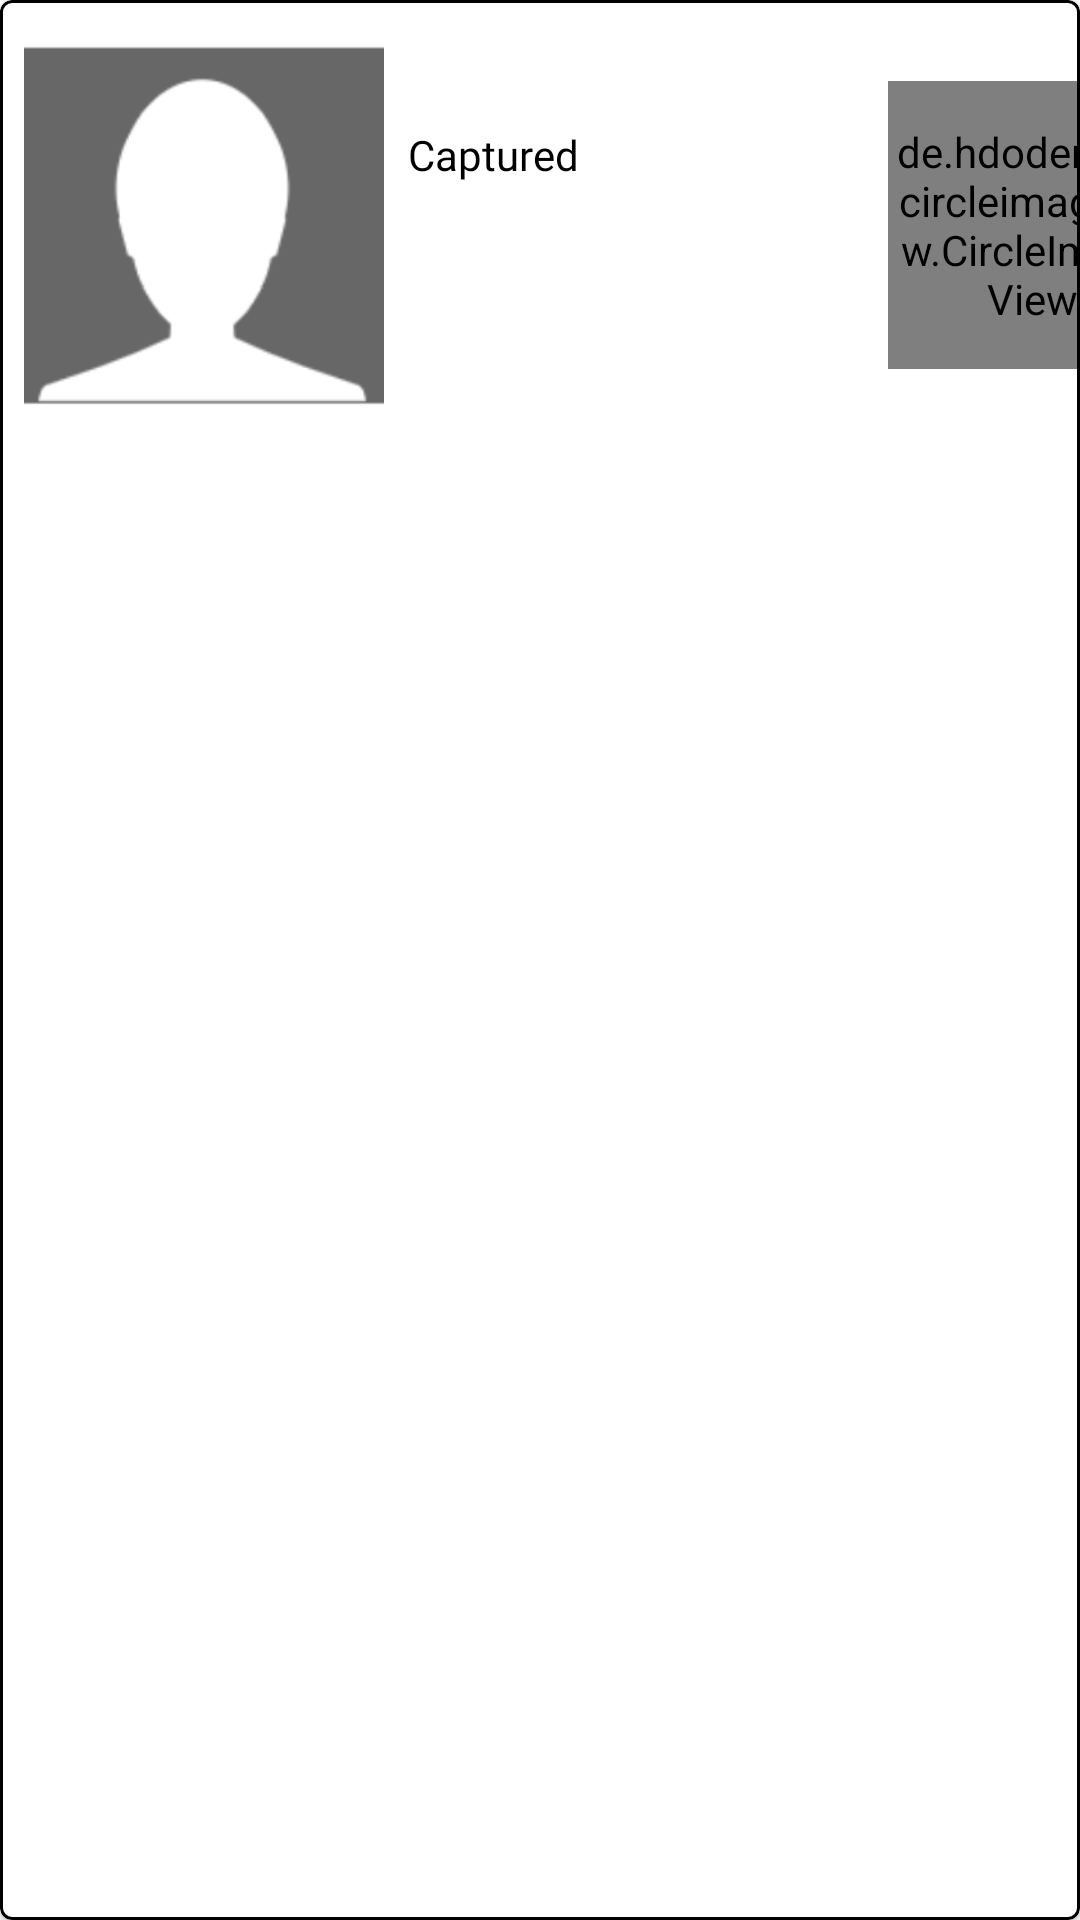

Icons on this 1080px x 1920px Android screen, each with the point to tap as (x=x, y=y):
Pokemon Trainer Image: (x=204, y=225)
